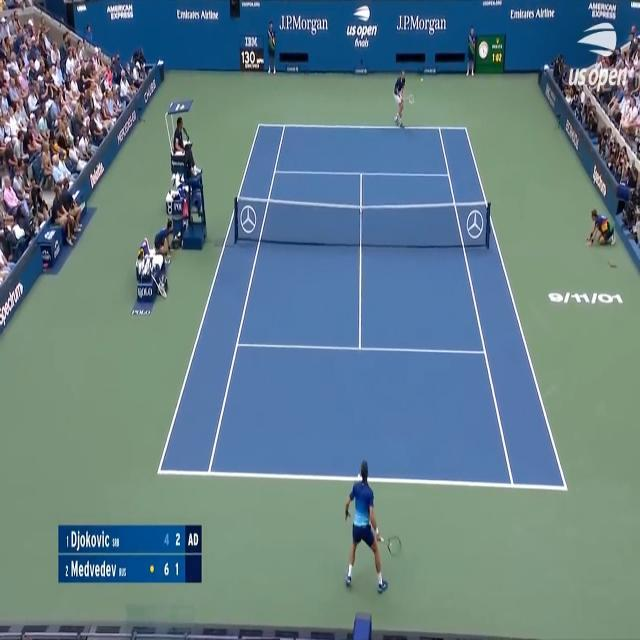Emirates: (176, 8, 200, 22), (511, 8, 536, 20)
